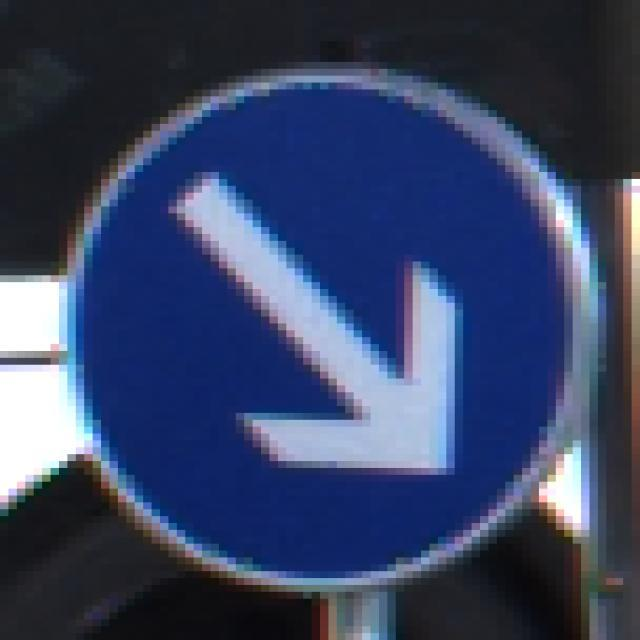compulsary keep right: (74, 62, 578, 588)
